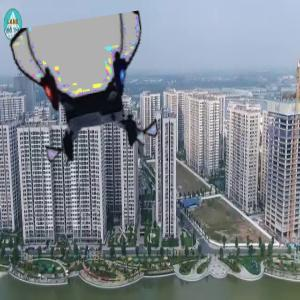drone: (17, 20, 163, 166)
